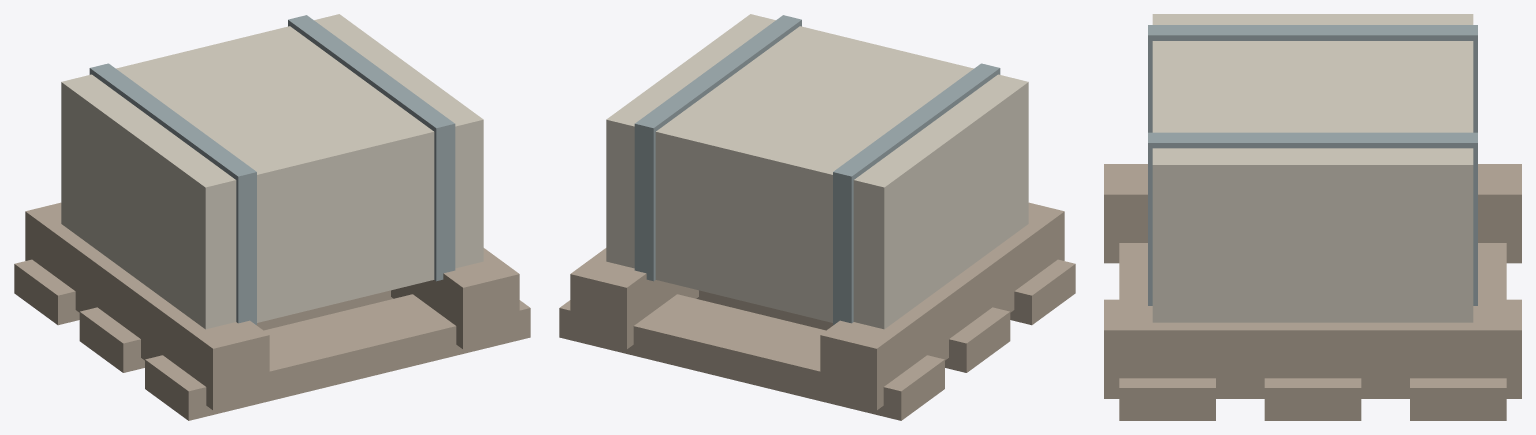
File: DF_ART_PalletSupply.glb
The picture shows the model from 3 angles, left to right: view 1: azimuth 30°, elevation 25°; view 2: azimuth 150°, elevation 25°; view 3: azimuth 270°, elevation 25°; orthographic projection. The views are drawn at different scales.
Parts seen in each view (by area): view 1: cargo_case_5, pallet_slats_2, pallet_riser_3, strap_7, pallet_riser_4, strap_6, pallet_slats_1, pallet_slats_0; view 2: cargo_case_5, pallet_slats_0, pallet_riser_3, strap_7, pallet_riser_4, strap_6, pallet_slats_1, pallet_slats_2; view 3: cargo_case_5, pallet_riser_4, pallet_riser_3, strap_7, strap_6, pallet_slats_0, pallet_slats_2, pallet_slats_1.
Part boxes in pixels (x1,y1,x2,y2): cargo_case_5: [61, 14, 483, 329]; pallet_slats_2: [145, 294, 530, 420]; pallet_riser_3: [25, 202, 269, 410]; strap_7: [288, 15, 455, 281]; pallet_riser_4: [391, 248, 519, 349]; strap_6: [89, 63, 256, 324]; pallet_slats_1: [79, 290, 393, 372]; pallet_slats_0: [14, 259, 79, 325]; cargo_case_5: [606, 14, 1028, 329]; pallet_slats_0: [559, 294, 944, 420]; pallet_riser_3: [820, 202, 1064, 410]; strap_7: [634, 15, 801, 281]; pallet_riser_4: [570, 248, 698, 349]; strap_6: [833, 63, 1000, 324]; pallet_slats_1: [696, 290, 1010, 372]; pallet_slats_2: [1010, 259, 1075, 325]; cargo_case_5: [1152, 14, 1473, 322]; pallet_riser_4: [1104, 299, 1521, 398]; pallet_riser_3: [1104, 164, 1521, 263]; strap_7: [1148, 132, 1477, 305]; strap_6: [1148, 25, 1477, 132]; pallet_slats_0: [1410, 243, 1506, 420]; pallet_slats_2: [1119, 243, 1215, 420]; pallet_slats_1: [1264, 378, 1361, 420].
Size of the model in its own units: 1.45 by 0.89 by 1.38.
